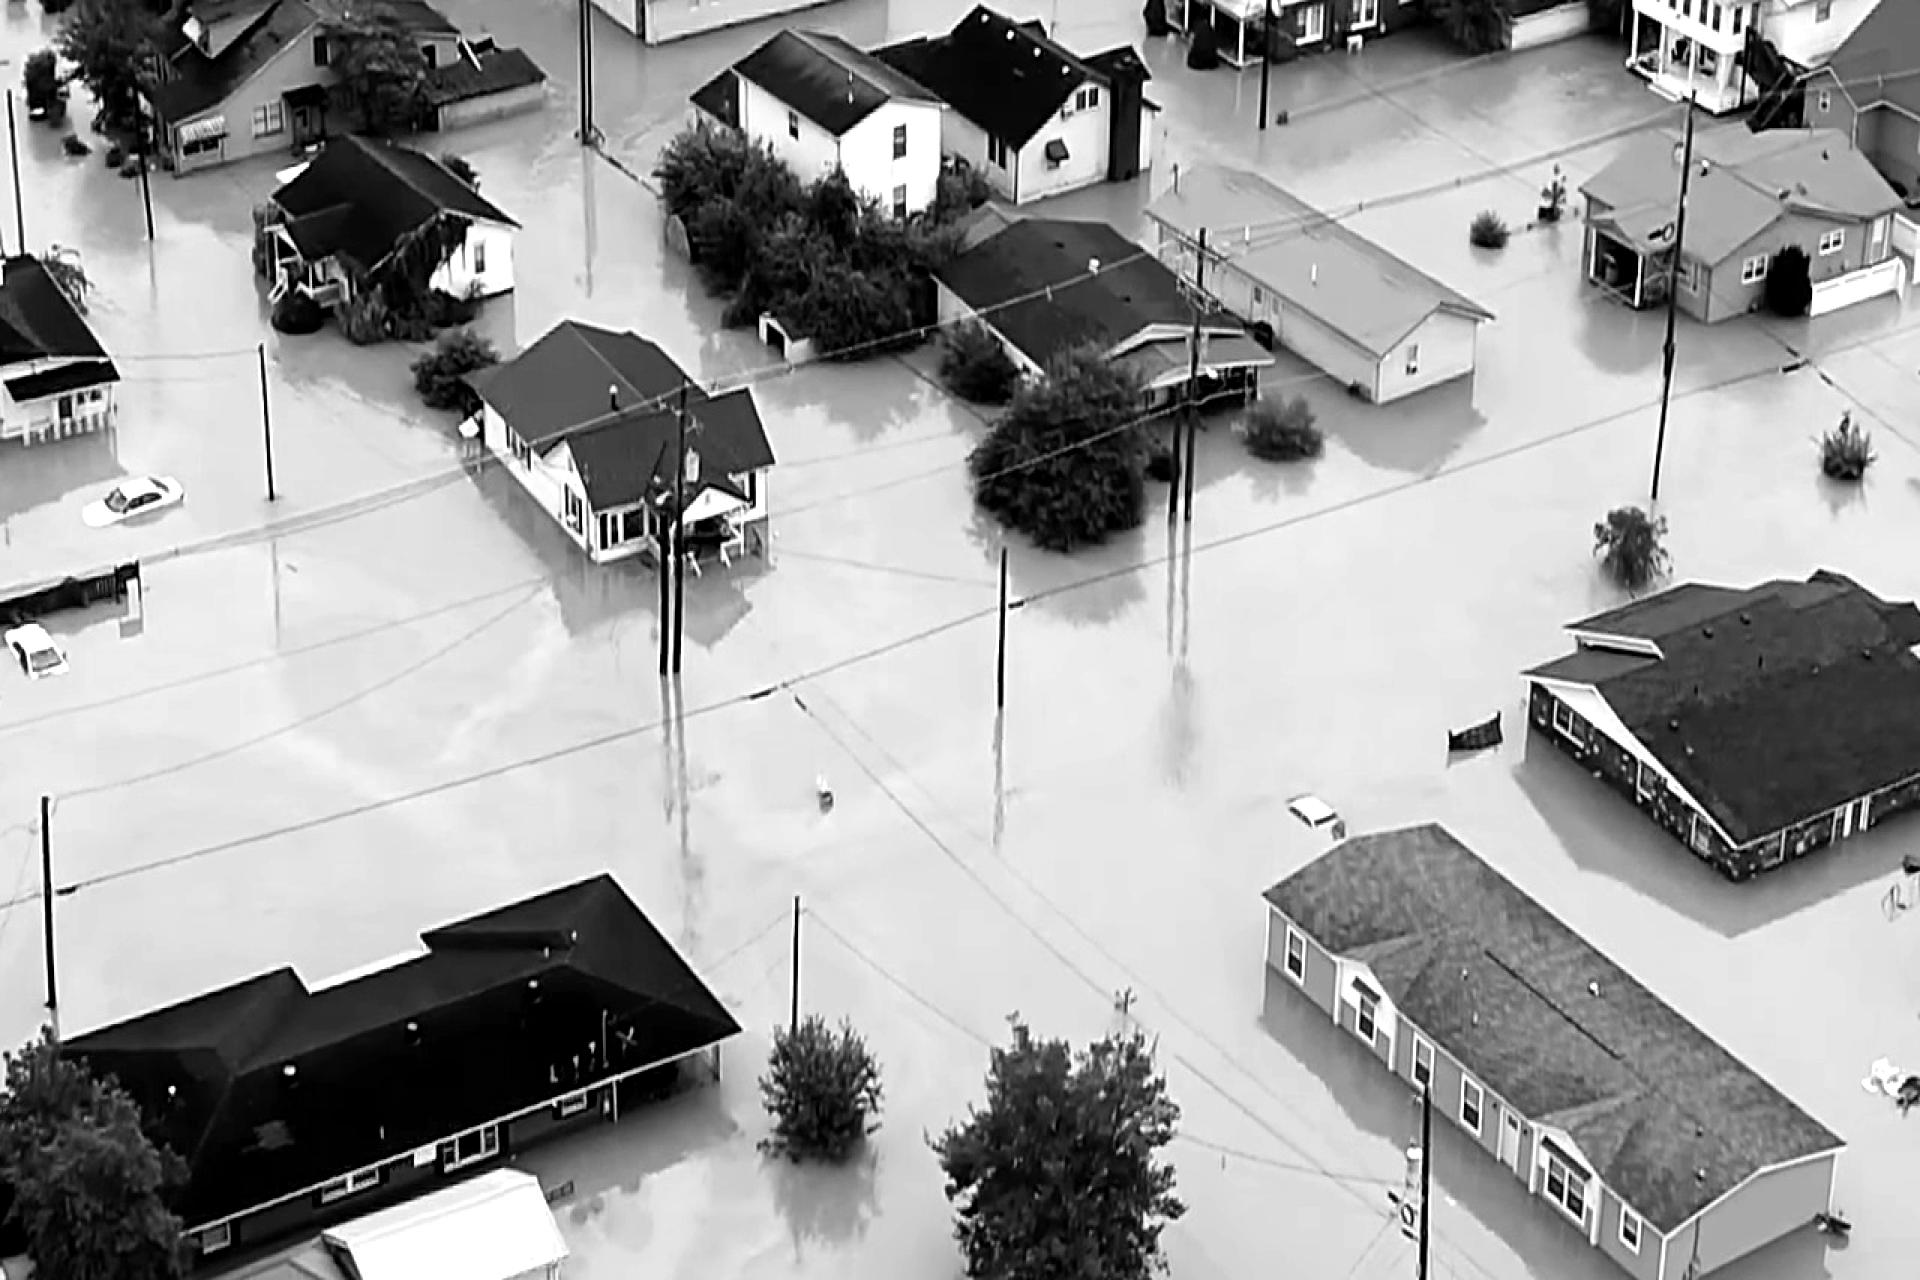House: (1240, 816, 1850, 1280), (41, 861, 746, 1230), (1519, 567, 1920, 879), (1153, 157, 1490, 406), (470, 317, 773, 551), (1577, 120, 1903, 317), (936, 216, 1241, 381), (147, 0, 456, 151), (273, 134, 521, 310), (0, 157, 121, 509), (730, 27, 949, 206), (927, 0, 1114, 201), (1631, 0, 1920, 89), (1806, 0, 1920, 197), (583, 0, 896, 36), (1174, 0, 1446, 39), (0, 1027, 40, 1280), (1917, 220, 1920, 480)
Vehicle: (80, 471, 186, 527), (3, 620, 69, 680)
